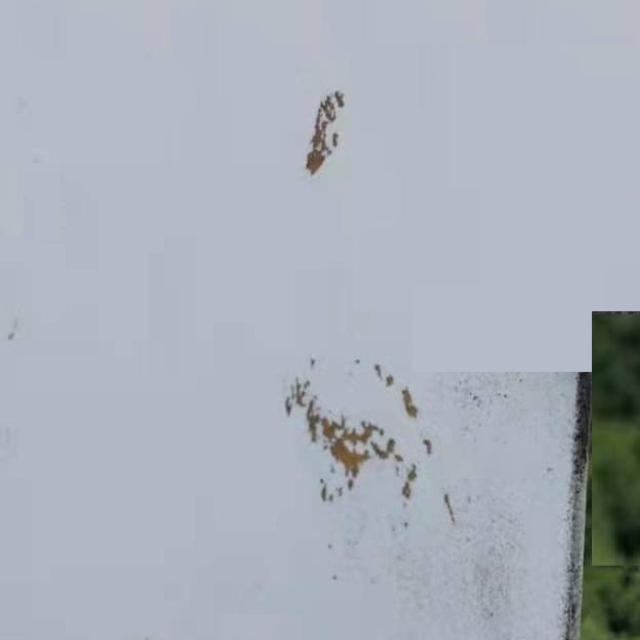surface_peeling: (287, 354, 439, 519), (302, 87, 347, 181)
